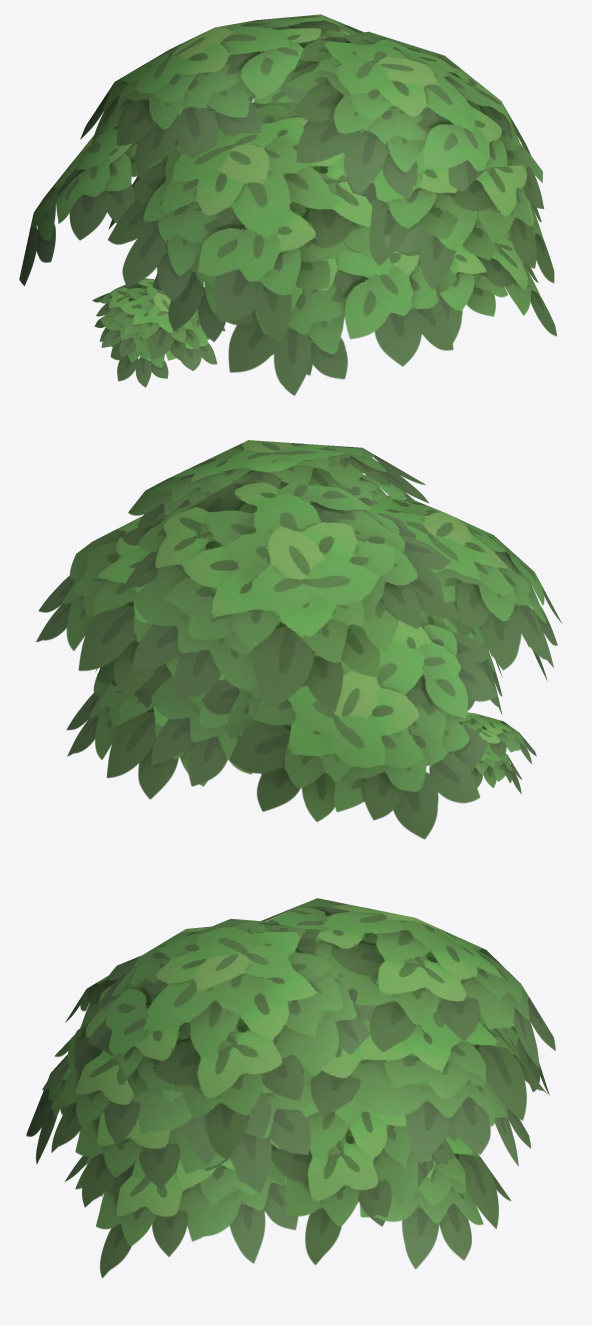
Rendered from bush.glb.
3 views of the same model, one above another, from view 1: azimuth 30°, elevation 25°; view 2: azimuth 150°, elevation 25°; view 3: azimuth 270°, elevation 25° (orthographic). The views are drawn at different scales.
Parts seen in each view (by area): view 1: Bush_Large; view 2: Bush_Large; view 3: Bush_Large.
Boxes of the visible parts, <box> form: Bush_Large: <box>19,14,556,395</box>; Bush_Large: <box>36,440,561,839</box>; Bush_Large: <box>26,898,555,1278</box>.
Bounding box in the file's own units: 2.07 × 1.19 × 2.07.
Materials: 1 (1 with a texture image).
